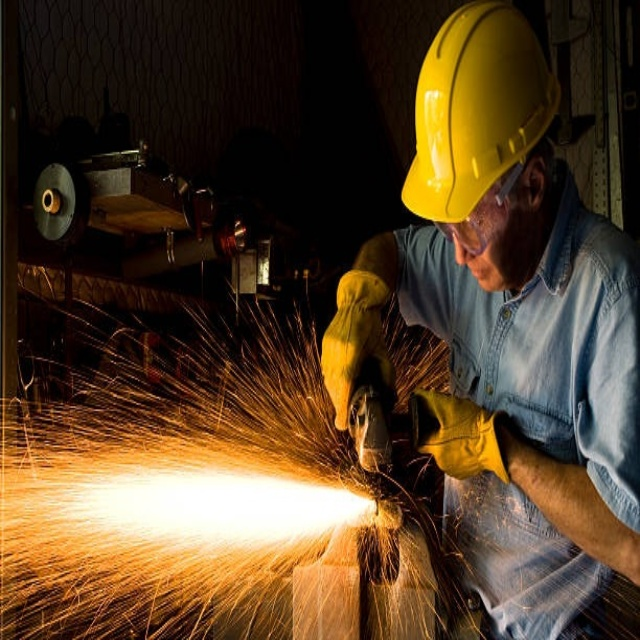Gafas: (430, 151, 529, 258)
Guantes: (324, 234, 402, 433), (407, 387, 512, 484)
Sin_mascara: (457, 257, 500, 290)
